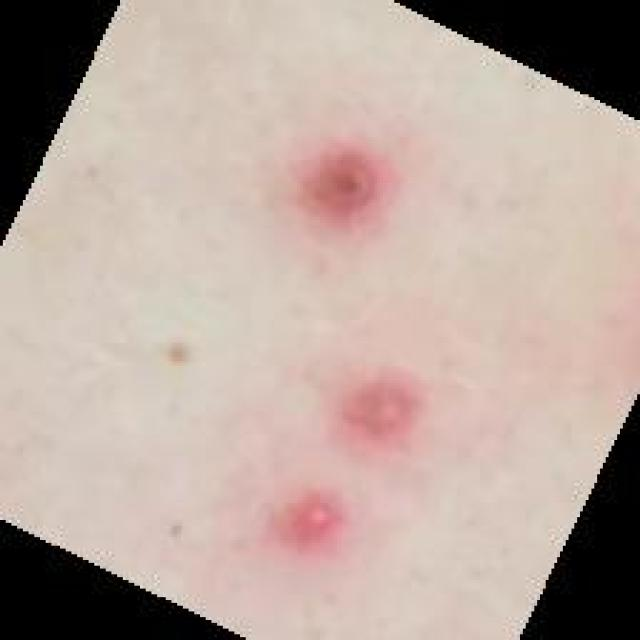monkeypox: (138, 112, 522, 594)
